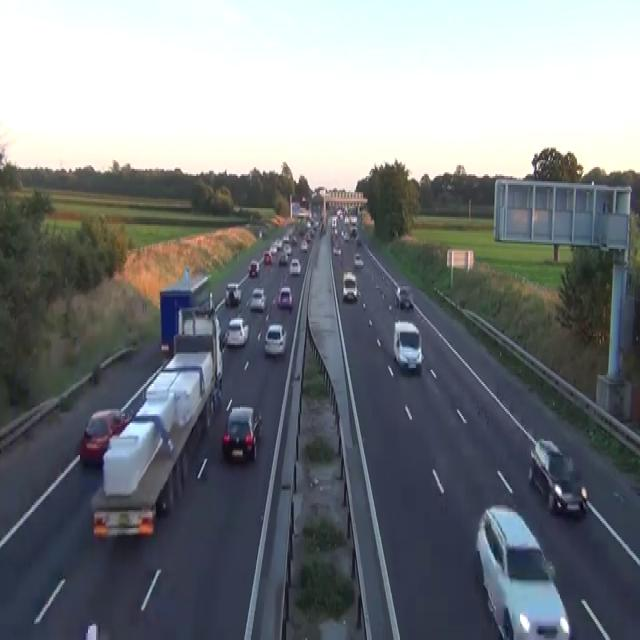Car: (475, 503, 571, 638), (528, 438, 587, 518), (79, 407, 127, 466), (221, 406, 262, 462), (92, 505, 156, 539), (393, 320, 423, 372), (263, 324, 286, 356), (225, 316, 249, 346), (342, 270, 358, 300), (394, 284, 413, 308), (277, 284, 292, 310), (225, 282, 241, 306), (249, 288, 265, 311), (88, 363, 100, 384), (248, 260, 259, 278), (289, 258, 301, 274), (353, 250, 363, 266), (263, 251, 272, 265), (278, 252, 287, 265), (331, 215, 338, 229), (441, 182, 453, 190), (289, 233, 297, 245), (300, 238, 307, 251), (332, 244, 341, 254), (274, 238, 282, 249), (271, 217, 280, 226), (283, 244, 291, 254), (343, 229, 349, 242), (319, 222, 325, 235), (350, 226, 357, 236), (270, 244, 277, 254), (233, 204, 240, 213), (355, 235, 361, 245), (282, 234, 288, 242), (301, 195, 306, 202), (258, 230, 262, 238), (368, 318, 372, 326)
Truck: (90, 295, 223, 539)
